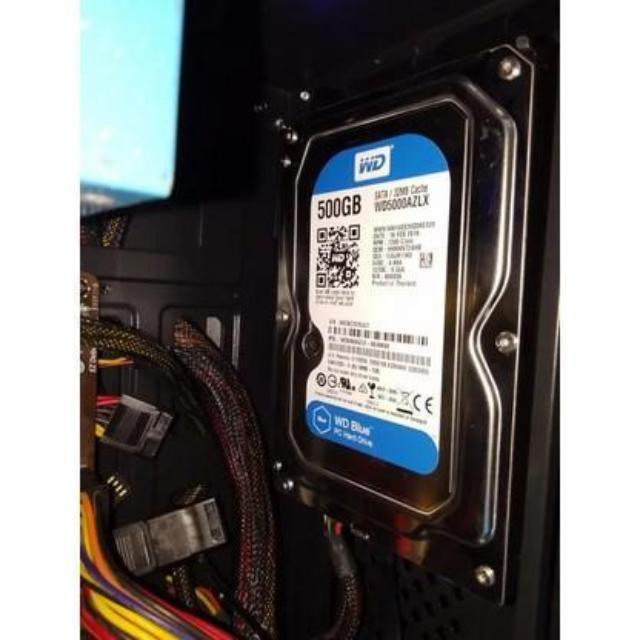DISK: (262, 31, 554, 600)
